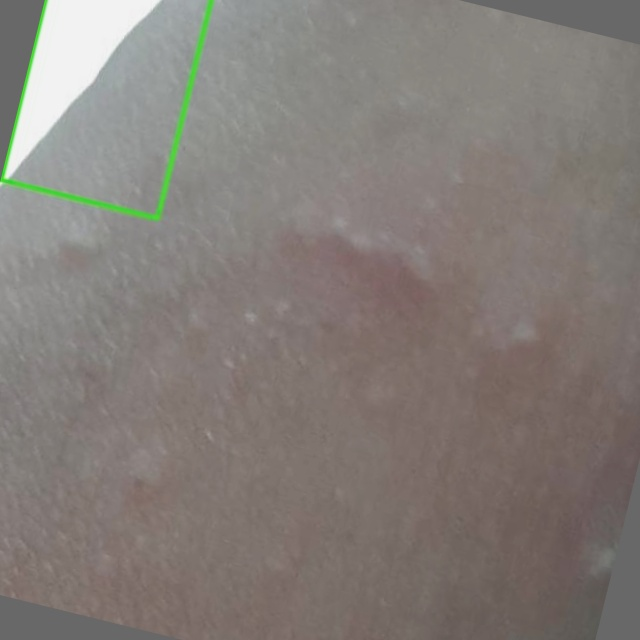Scabies: (1, 0, 211, 218)
